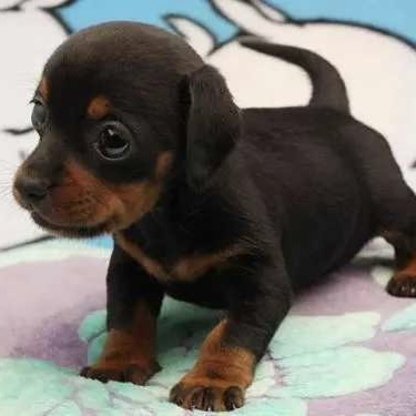doberman: (8, 16, 413, 416)
